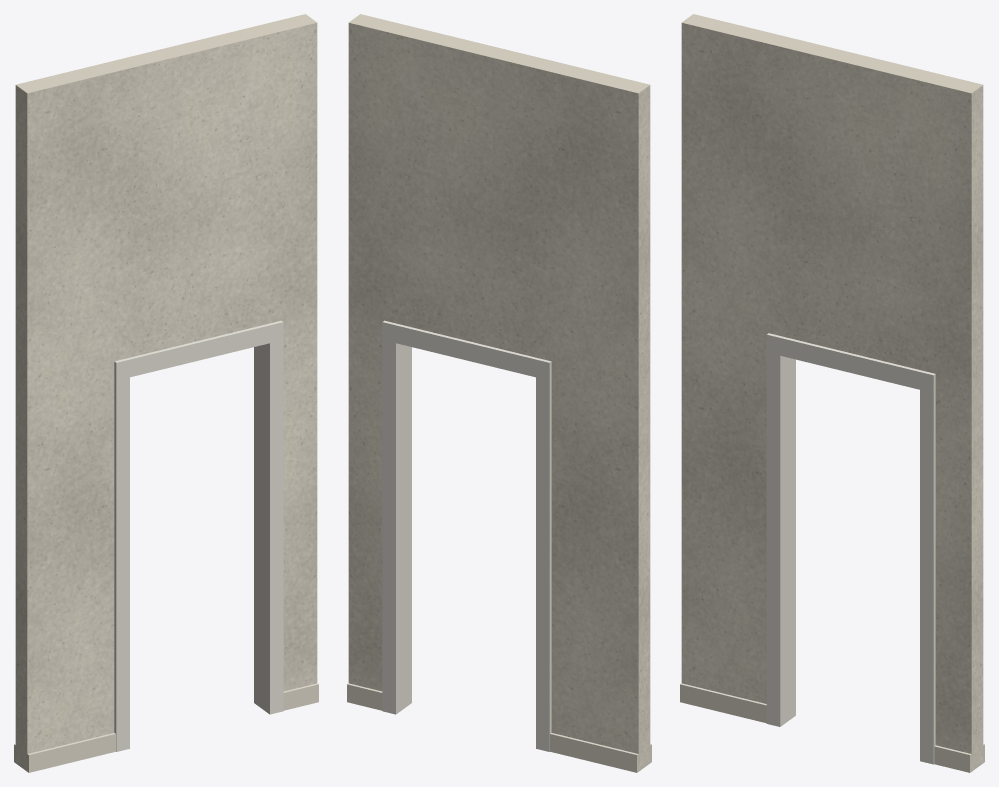
File: interior_wall_end_doorway.glb
The picture shows the model from 3 angles, left to right: view 1: azimuth 30°, elevation 25°; view 2: azimuth 150°, elevation 25°; view 3: azimuth 330°, elevation 25°; orthographic projection.
Visible parts, largest first — view 1: interior_wall_end_doorway_plaster, interior_wall_end_doorway_frame, interior_wall_end_doorway_trim; view 2: interior_wall_end_doorway_plaster, interior_wall_end_doorway_frame, interior_wall_end_doorway_trim; view 3: interior_wall_end_doorway_plaster, interior_wall_end_doorway_frame, interior_wall_end_doorway_trim.
Boxes of the visible parts, x1,y1,x2,y2 form: interior_wall_end_doorway_plaster: [15, 14, 317, 771]; interior_wall_end_doorway_frame: [114, 320, 283, 751]; interior_wall_end_doorway_trim: [14, 683, 318, 772]; interior_wall_end_doorway_plaster: [348, 14, 650, 771]; interior_wall_end_doorway_frame: [382, 320, 551, 751]; interior_wall_end_doorway_trim: [347, 683, 651, 772]; interior_wall_end_doorway_plaster: [681, 14, 983, 771]; interior_wall_end_doorway_frame: [766, 333, 935, 764]; interior_wall_end_doorway_trim: [680, 683, 984, 772].
Bounding box in the file's own units: 1.7 × 3.8 × 0.16.
3 materials, 1 textured.
